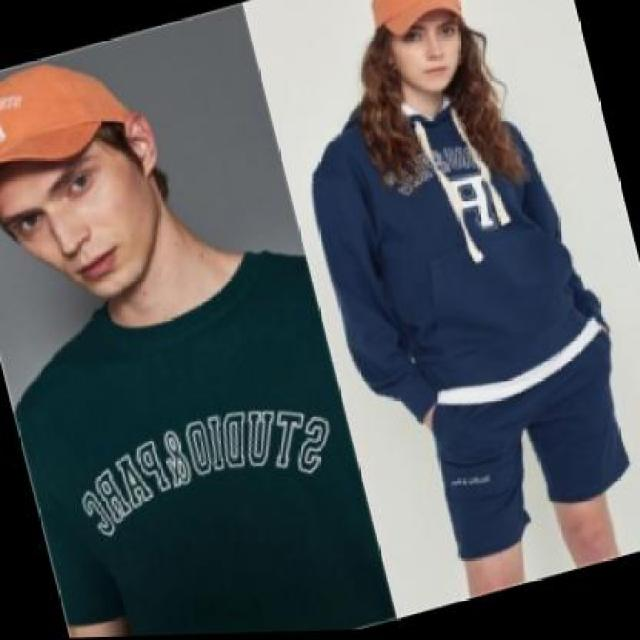hat: (0, 40, 165, 245), (358, 0, 472, 54)
